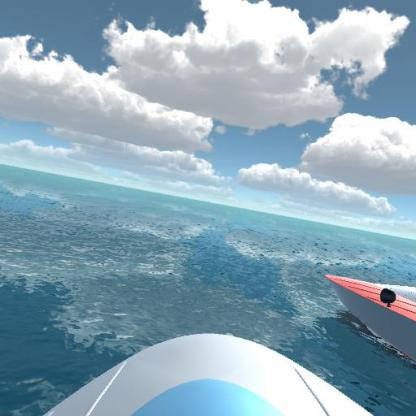usv3: (320, 262, 415, 361)
